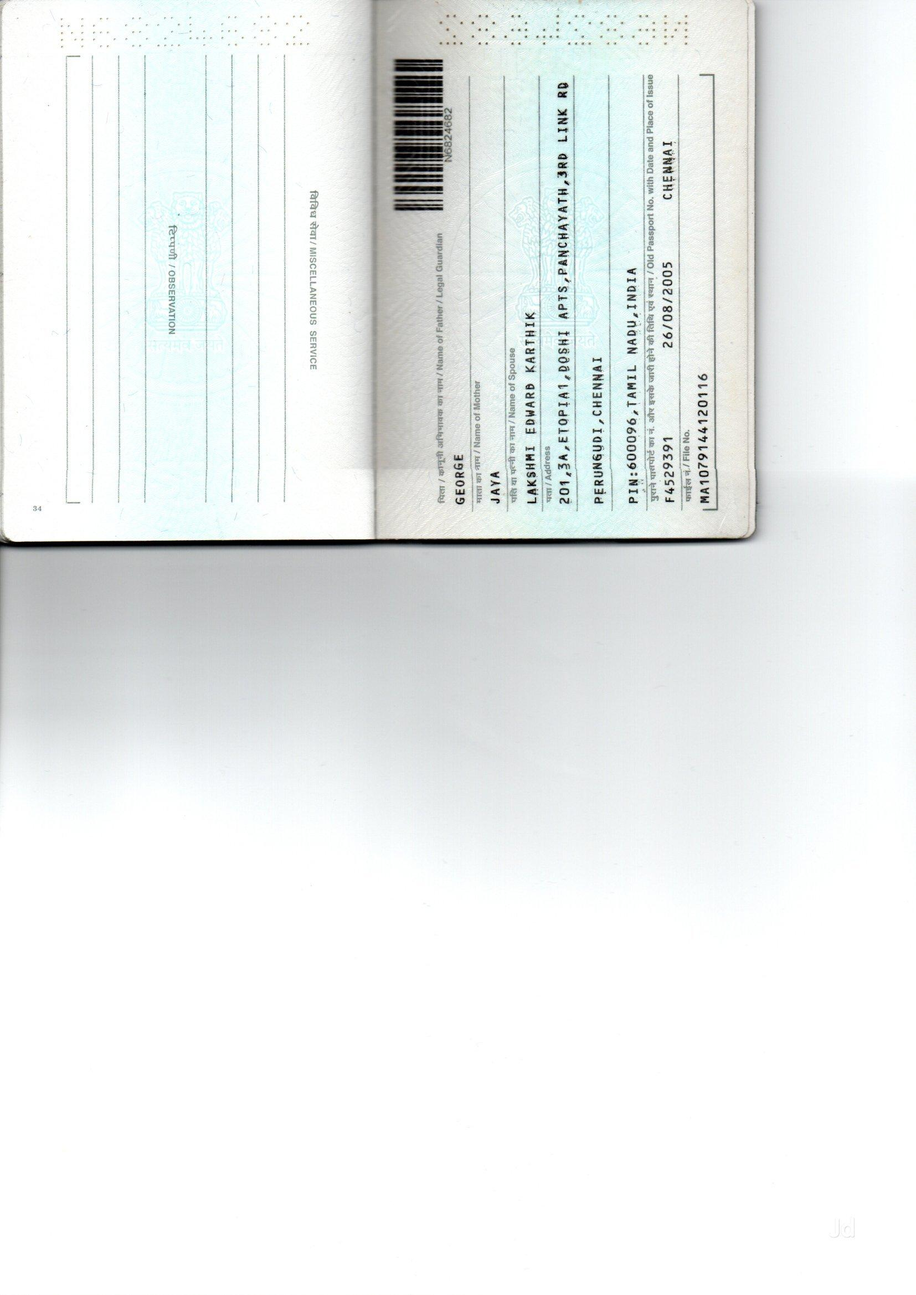File_no: (692, 368, 715, 512)
address: (546, 78, 644, 511)
father_name: (448, 437, 475, 514)
mother_name: (485, 458, 506, 511)
old_passport_details: (657, 123, 684, 514)
passport_no: (442, 104, 459, 169)
spouse_name: (516, 303, 547, 513)
